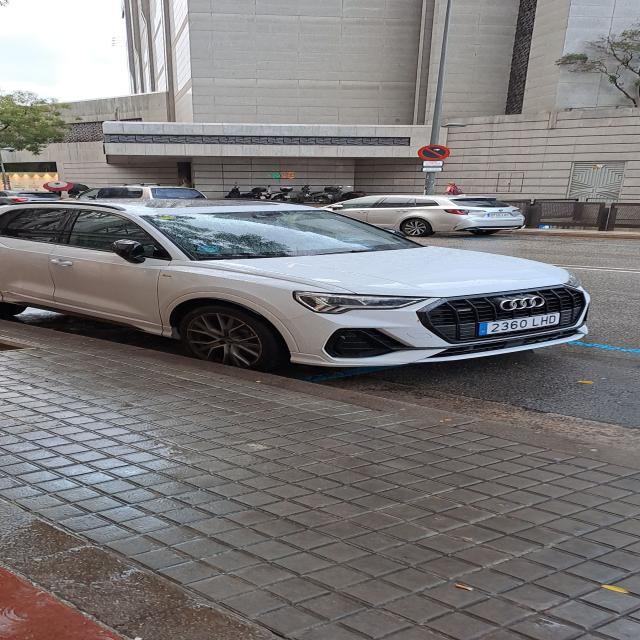license_plate-34Td: (479, 313, 560, 336)
